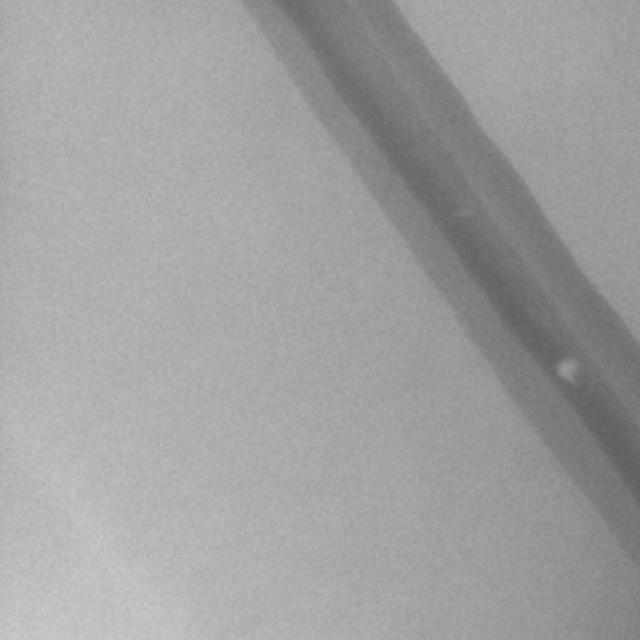slag inclusion: (554, 357, 579, 384)
